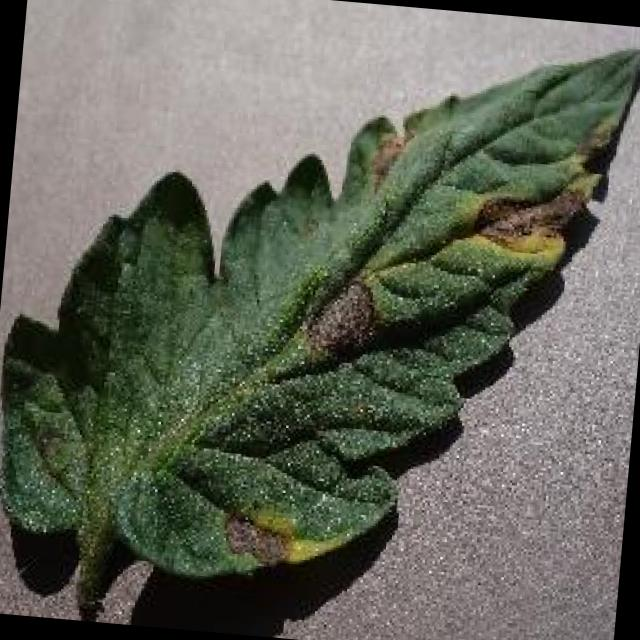Tomato_Early_Blight: (206, 58, 611, 593)
